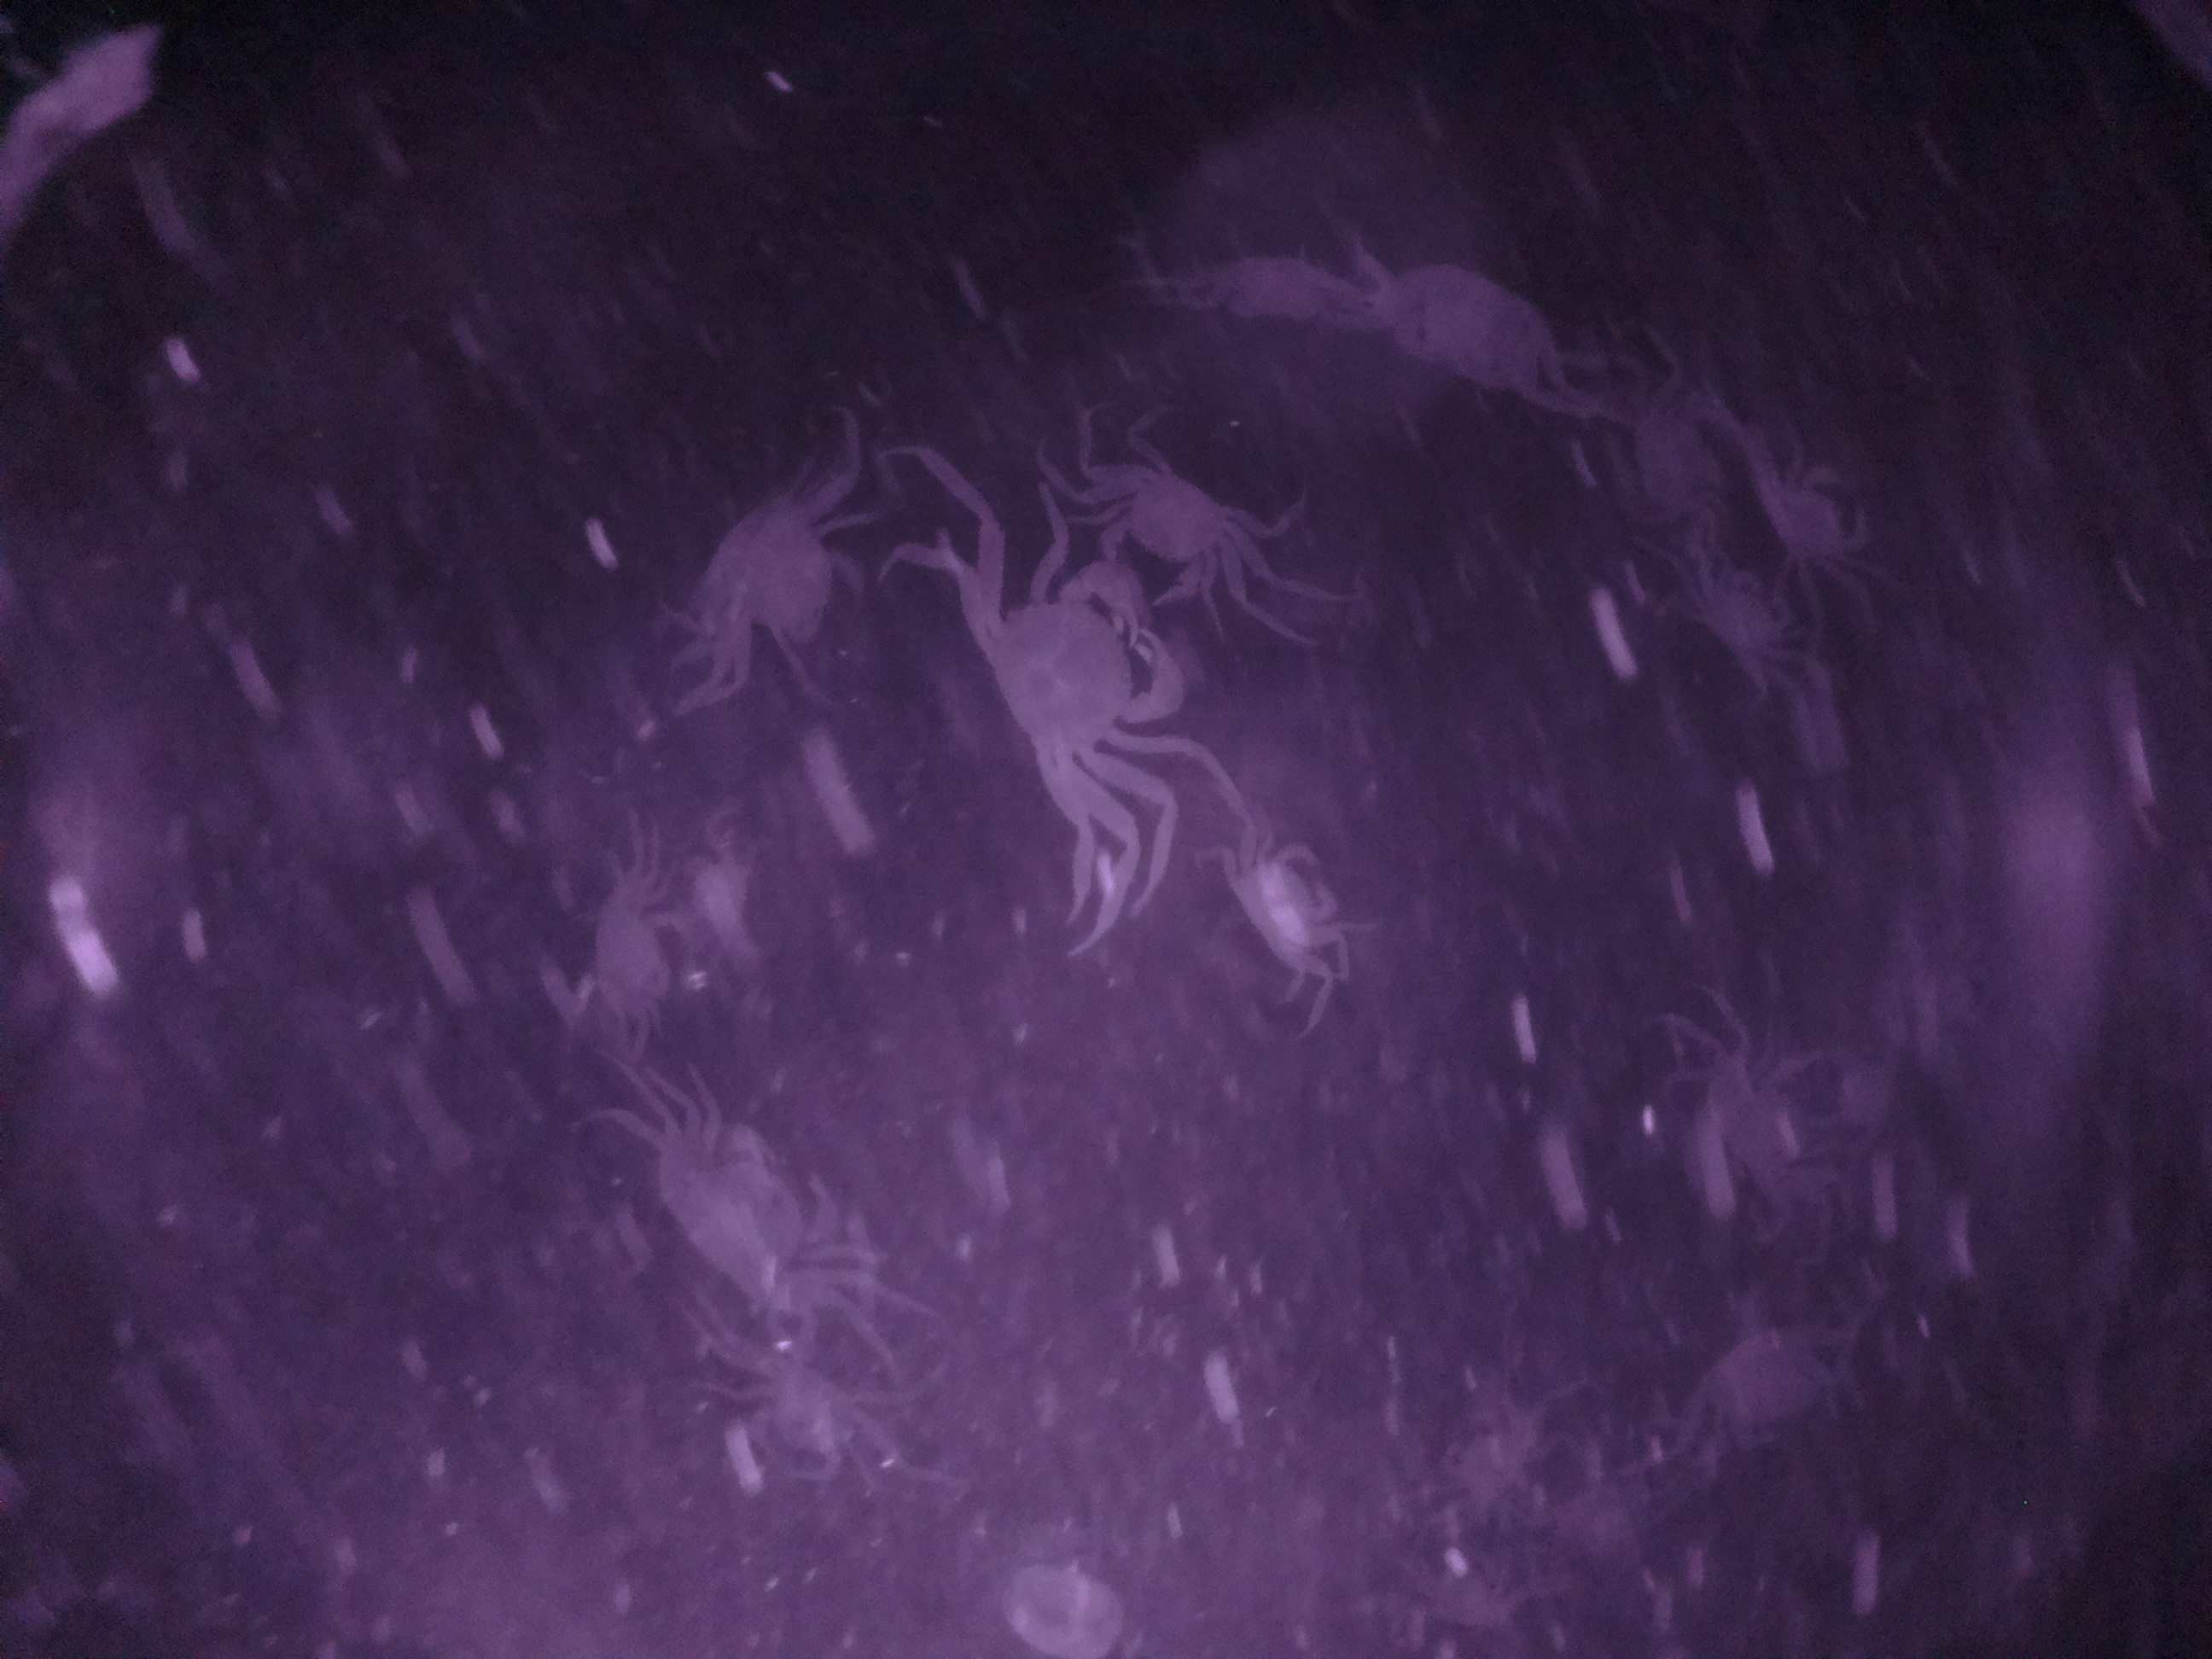Crab: (923, 561, 1181, 850), (629, 1101, 845, 1317), (1049, 432, 1278, 627), (1209, 819, 1369, 988)
